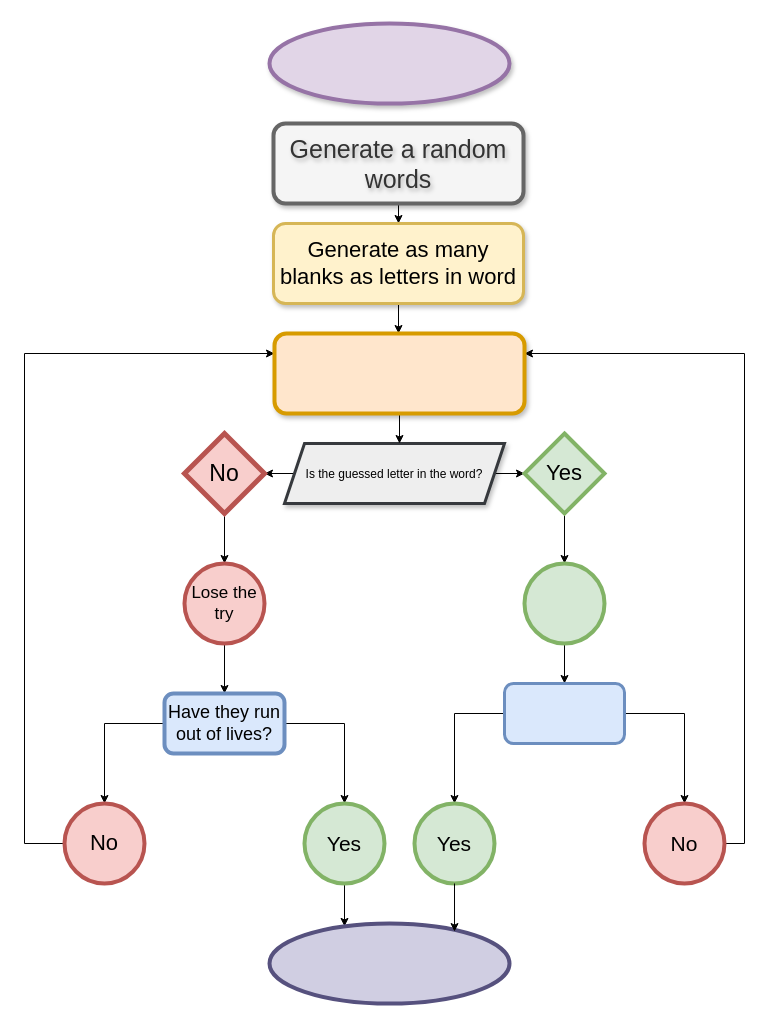
Some shapes in this 770 by 1022 pixel diagram are drawn without their labels. Here are the shapes that lost their labels. From the top down, the centre of each, then its label:
the point at 390,64: Start
the point at 400,374: Ask the user to guess a letter
the point at 564,603: Replace the blank with the letter
the point at 564,713: Are all the blanks flied?
the point at 389,963: Game over!
